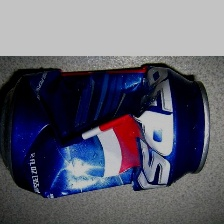can: (0, 63, 213, 201)
